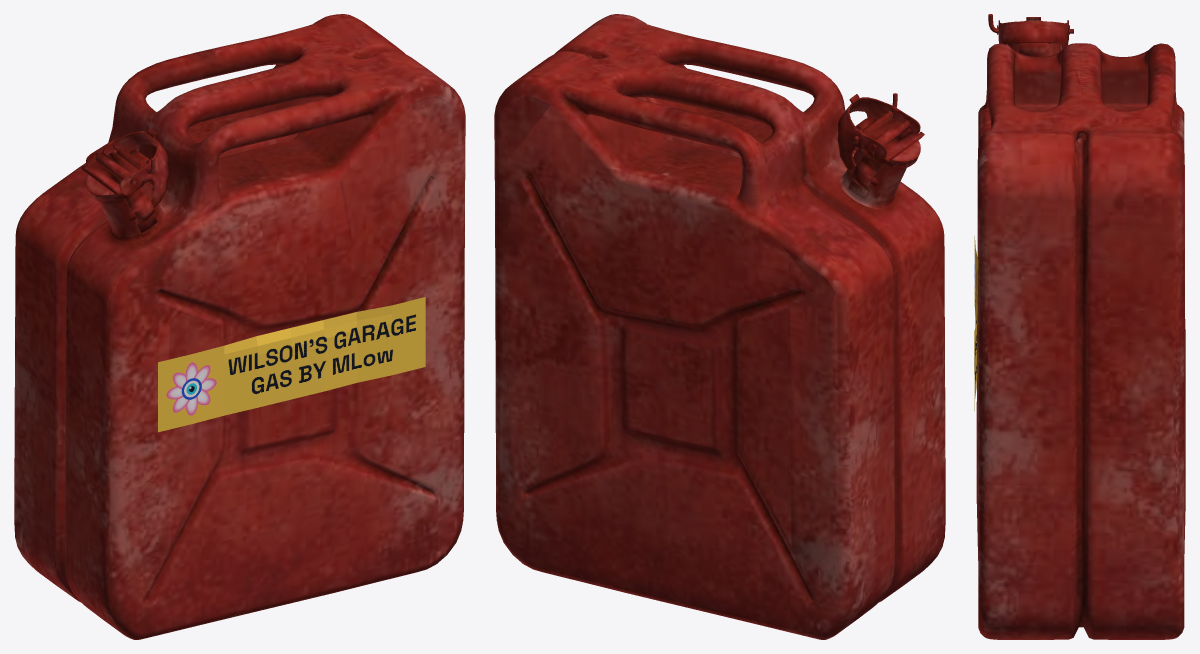
The model's file is nyb_gatsby_gascan.glb.
The picture shows the model from 3 angles, left to right: view 1: azimuth 30°, elevation 25°; view 2: azimuth 150°, elevation 25°; view 3: azimuth 270°, elevation 25°; orthographic projection. The views are drawn at different scales.
Parts seen in each view (by area): view 1: metal_jerrycan, stk_lbl_ee9e5e940e.png; view 2: metal_jerrycan; view 3: metal_jerrycan, stk_lbl_ee9e5e940e.png.
Boxes of the visible parts, x1,y1,x2,y2 form: metal_jerrycan: [14, 14, 465, 639]; stk_lbl_ee9e5e940e.png: [158, 297, 425, 432]; metal_jerrycan: [494, 14, 945, 639]; metal_jerrycan: [976, 14, 1185, 639]; stk_lbl_ee9e5e940e.png: [974, 236, 978, 410].
Bounding box in the file's own units: 0.3503 × 0.4552 × 0.1738.
2 materials, 2 textured.
